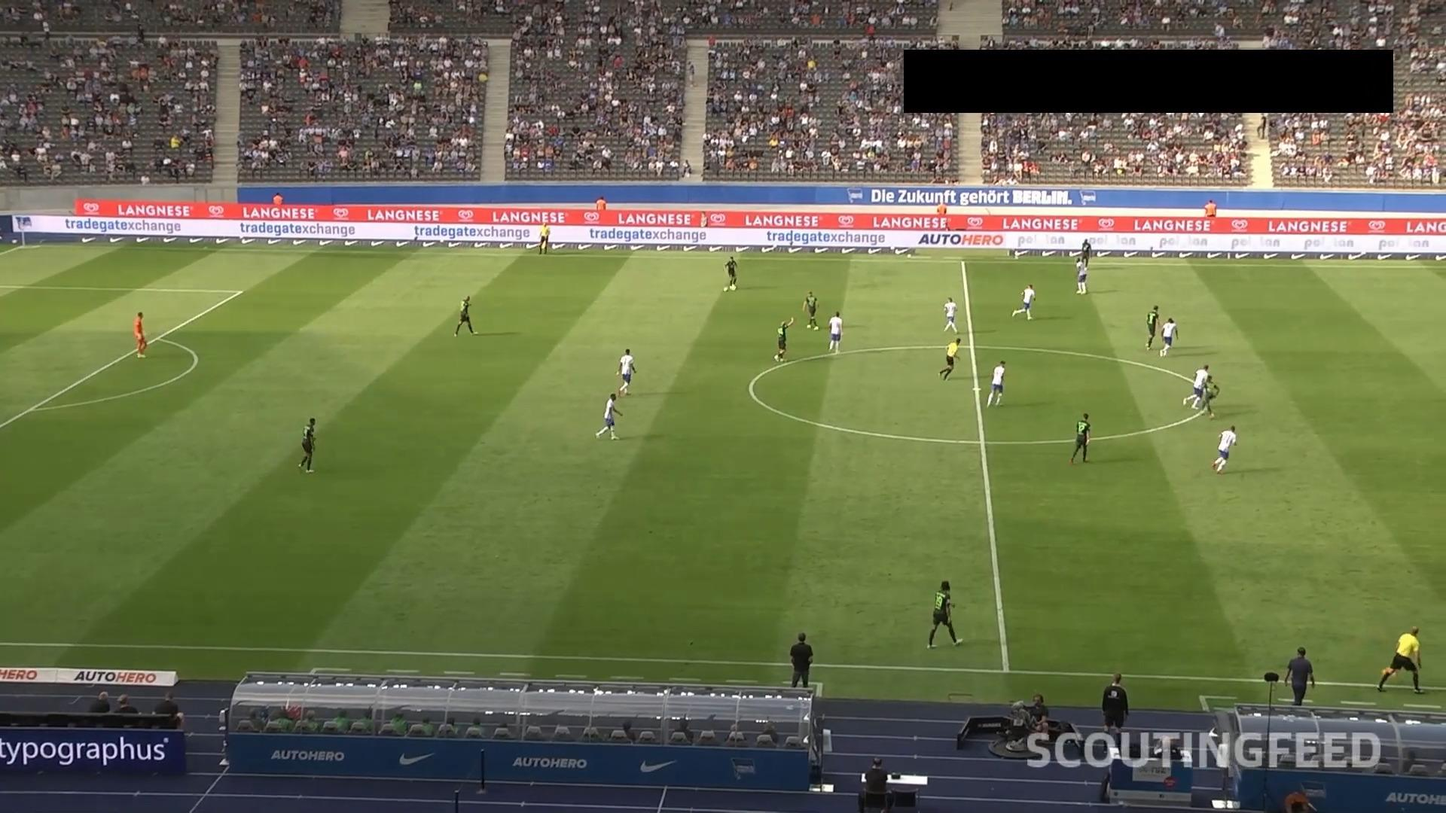ball: (722, 285, 728, 295)
goalkeeper: (132, 311, 151, 361)
player: (925, 577, 966, 652), (594, 390, 620, 443), (1213, 423, 1240, 474), (453, 294, 480, 339), (615, 347, 638, 397), (1069, 412, 1091, 464), (297, 416, 316, 476), (773, 318, 797, 363), (1185, 367, 1210, 410), (1198, 373, 1221, 419), (1013, 282, 1038, 321), (989, 358, 1006, 409), (802, 290, 822, 332), (828, 310, 844, 355), (1161, 316, 1178, 358), (1146, 303, 1160, 353), (722, 254, 737, 294), (943, 296, 959, 333), (1076, 257, 1088, 294), (1079, 236, 1092, 268)
referee: (1380, 622, 1423, 697), (940, 336, 962, 382), (537, 221, 551, 255)
